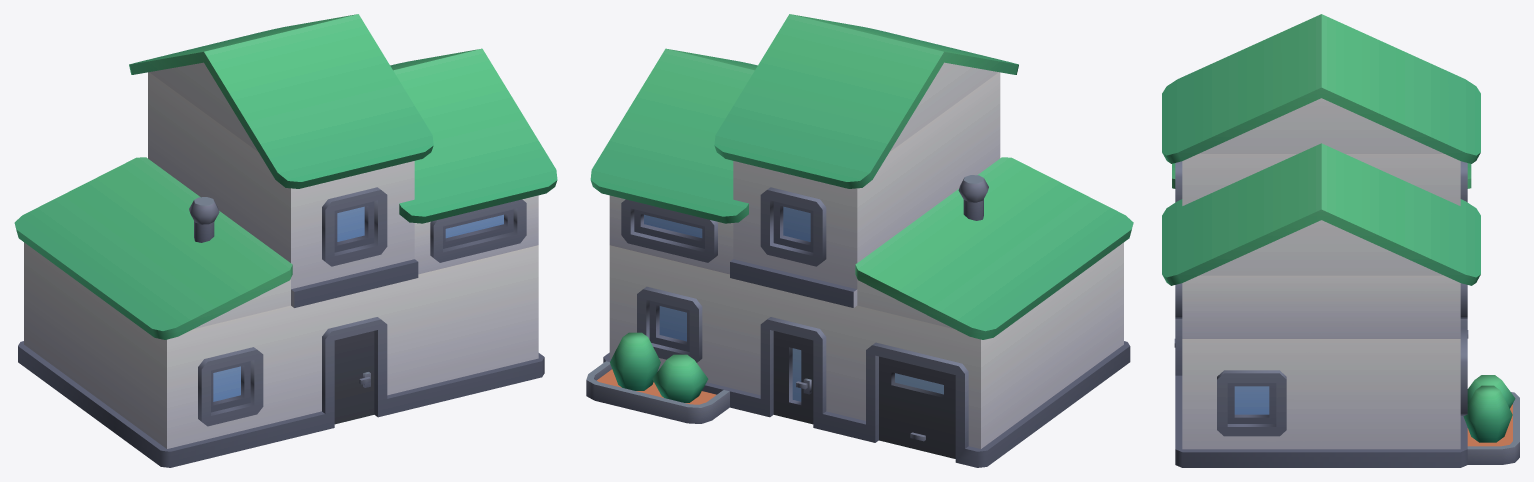
The model's file is house-c.glb.
The picture shows the model from 3 angles, left to right: view 1: azimuth 30°, elevation 25°; view 2: azimuth 150°, elevation 25°; view 3: azimuth 270°, elevation 25°; orthographic projection. The views are drawn at different scales.
Visible parts, largest first — view 1: building-type-c; view 2: building-type-c; view 3: building-type-c.
Boxes of the visible parts, left/top/right/bottom form: building-type-c: left=14, top=14, right=557, bottom=467; building-type-c: left=586, top=14, right=1133, bottom=467; building-type-c: left=1162, top=14, right=1519, bottom=467.
Bounding box in the file's own units: 1.29 × 1.03 × 1.03.
1 material, 1 textured.
